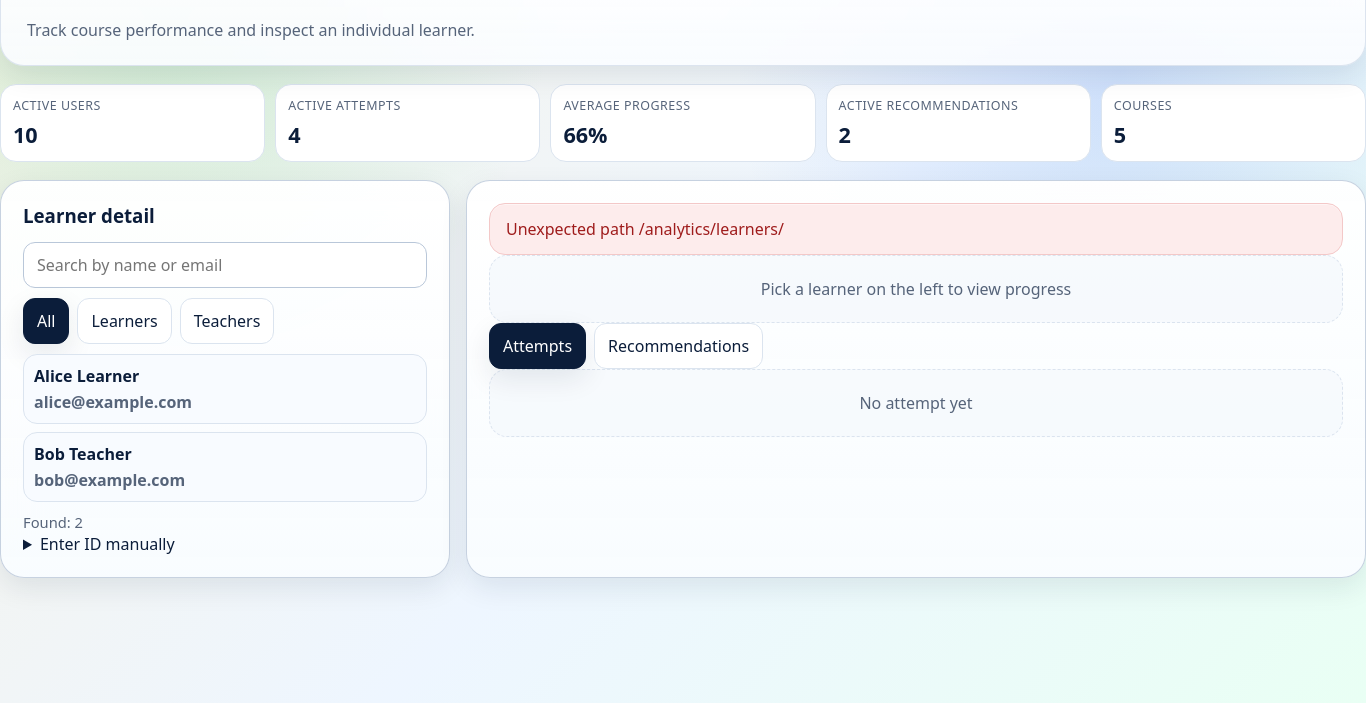
Test: AnalyticsPage › switches attempts and recommendations tabs
The image size is (1366, 703).
Click the button "Alice Learner alice@example.com". click: (87, 376)
box: top-left (23, 354), bottom-right (427, 424)
(page scrolled)
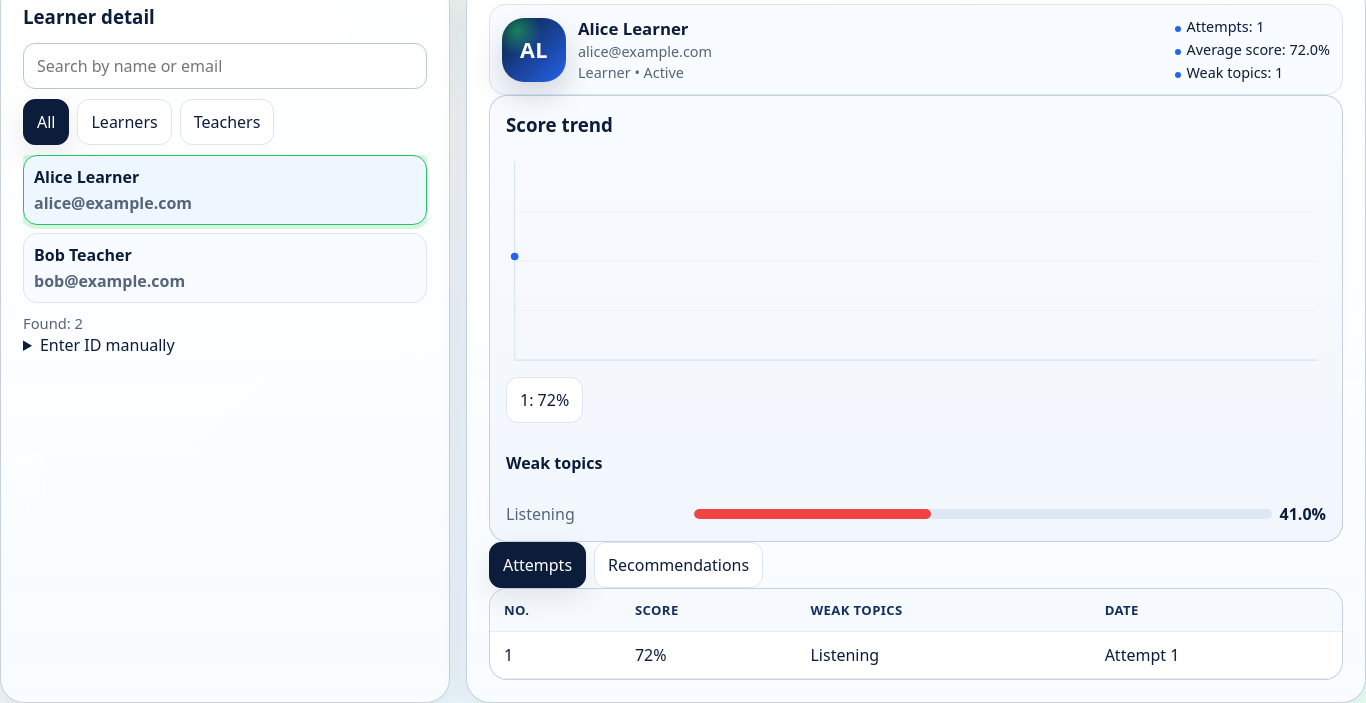
Expected: the column heading "No." is shown, top-left (490, 589), bottom-right (621, 632)
Click the tab "Recommendations". click: (679, 565)
box: top-left (594, 542), bottom-right (763, 588)
(page scrolled)
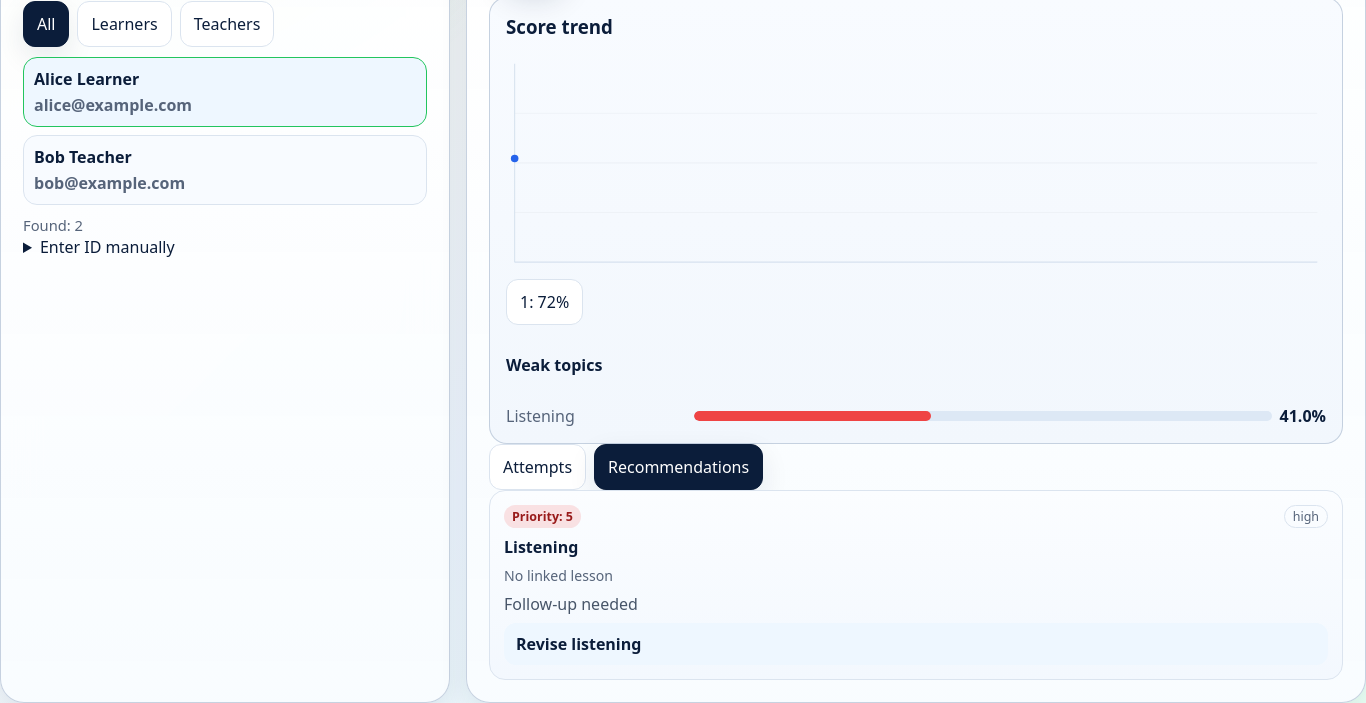
Expected: the text "Revise listening" is shown, top-left (504, 623), bottom-right (1328, 665)
